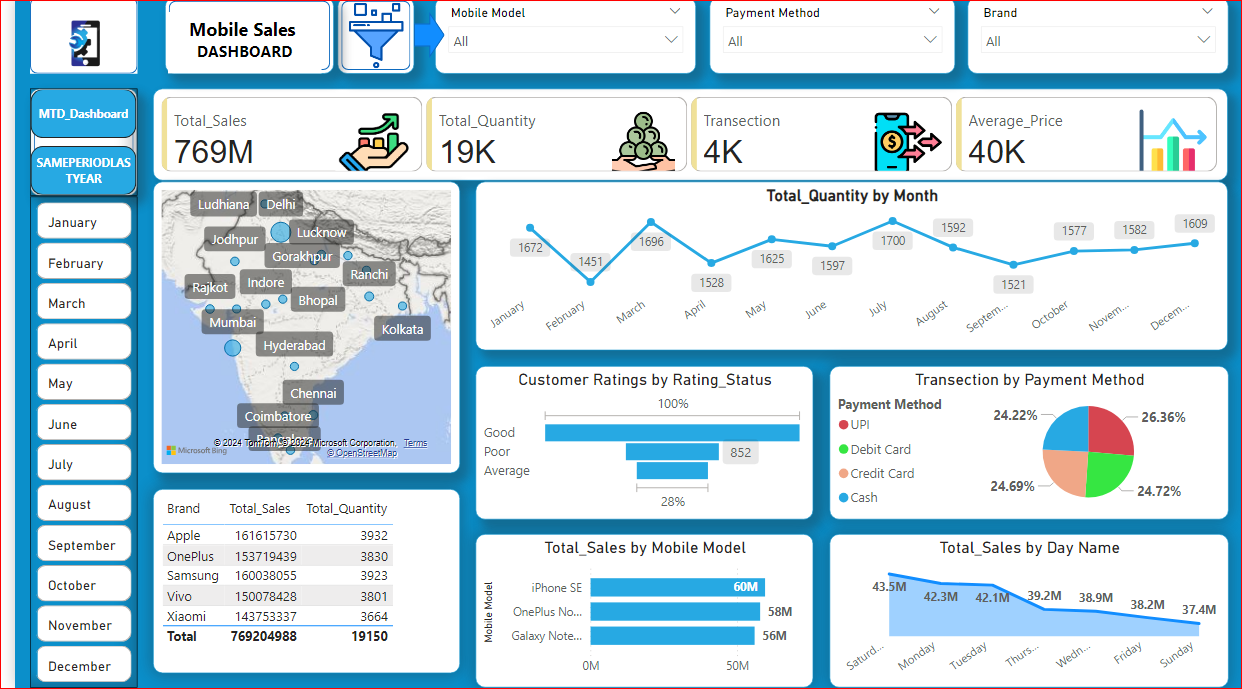

What the dashboard file says about the page in this screenshot:
{"tool":"powerbi","page":{"name":"Dashboard","canvas":[1280,720],"ordinal":0},"visuals":[{"type":"shape","box":[16,0,112,80],"z":0},{"type":"image","box":[0,0,144,96],"z":1000},{"type":"shape","box":[16,96,112,112],"z":2000},{"type":"advancedSlicerVisual","fields":{"Values":["Custom_Calender.Date.Variation.Date Hierarchy.Month"]},"box":[16,208,112,512],"z":3000},{"type":"cardVisual","fields":{"Data":["Sales_Data.Total_Sales","Sales_Data.Total_Quantity","Sales_Data.Transection","Sales_Data.Average_Price"]},"box":[144,96,1120,96],"z":4000},{"type":"slicer","fields":{"Values":["Sales_Data.Mobile Model"]},"box":[438.4,0,272,80],"z":5000},{"type":"slicer","fields":{"Values":["Sales_Data.Payment Method"]},"box":[723.2,0,256,80],"z":6000},{"type":"slicer","fields":{"Values":["Sales_Data.Brand"]},"box":[992,0,272,80],"z":7000},{"type":"shape","box":[336,0,80,80],"z":8000},{"type":"image","box":[336,0,80,80],"z":9000},{"type":"shape","box":[416,16,32,48],"z":10000},{"type":"shape","box":[156.8,0,176,80],"z":11000},{"type":"textbox","box":[160,16,160,64],"z":12000},{"type":"map","fields":{"Category":["Sales_Data.City"],"Size":["Sales_Data.Total_Sales"]},"box":[144,192,320,304],"z":13000},{"type":"lineChart","fields":{"Y":["Sales_Data.Total_Quantity"],"Category":["Custom_Calender.Date.Variation.Date Hierarchy.Month"]},"box":[480,192,784,176],"z":14000},{"type":"funnel","title":"Customer Ratings by Rating_Status","fields":{"Y":["CountNonNull(Sales_Data.Customer Ratings)"],"Category":["Sales_Data.Rating_Status"]},"box":[480,384,352,160],"z":15000},{"type":"pieChart","fields":{"Category":["Sales_Data.Payment Method"],"Y":["Sales_Data.Transection"]},"box":[848,384,416,160],"z":16000},{"type":"clusteredBarChart","fields":{"Category":["Sales_Data.Mobile Model"],"Y":["Sales_Data.Total_Sales"]},"box":[480,560,352,160],"z":17000},{"type":"areaChart","fields":{"Y":["Sales_Data.Total_Sales"],"Category":["Custom_Calender.Day Name"]},"box":[848,560,416,160],"z":18000},{"type":"tableEx","fields":{"Values":["Sales_Data.Brand","Sales_Data.Total_Sales","Sales_Data.Total_Quantity"]},"box":[144,512,320,192],"z":19000},{"type":"pageNavigator","box":[16,96,112,112],"z":19001}]}

Visuals, with their boxes in screenshot pixels (x1, y1, x2, y2), scaled from the page's 1280x720 canvas onto the 1242x689 screenshot:
shape: box=[16, 0, 124, 77]
image: box=[0, 0, 140, 92]
shape: box=[16, 92, 124, 199]
advancedSlicerVisual - Custom_Calender.Date.Variation.Date Hierarchy.Month: box=[16, 199, 124, 688]
cardVisual - Sales_Data.Total_Sales x Sales_Data.Total_Quantity: box=[140, 92, 1226, 184]
slicer - Sales_Data.Mobile Model: box=[425, 0, 689, 77]
slicer - Sales_Data.Payment Method: box=[702, 0, 950, 77]
slicer - Sales_Data.Brand: box=[963, 0, 1226, 77]
shape: box=[326, 0, 404, 77]
image: box=[326, 0, 404, 77]
shape: box=[404, 15, 435, 61]
shape: box=[152, 0, 323, 77]
textbox: box=[155, 15, 310, 77]
map - Sales_Data.City x Sales_Data.Total_Sales: box=[140, 184, 450, 475]
lineChart - Sales_Data.Total_Quantity x Custom_Calender.Date.Variation.Date Hierarchy.Month: box=[466, 184, 1226, 352]
"Customer Ratings by Rating_Status" funnel: box=[466, 367, 807, 521]
pieChart - Sales_Data.Payment Method x Sales_Data.Transection: box=[823, 367, 1226, 521]
clusteredBarChart - Sales_Data.Mobile Model x Sales_Data.Total_Sales: box=[466, 536, 807, 688]
areaChart - Sales_Data.Total_Sales x Custom_Calender.Day Name: box=[823, 536, 1226, 688]
tableEx - Sales_Data.Brand x Sales_Data.Total_Sales: box=[140, 490, 450, 674]
pageNavigator: box=[16, 92, 124, 199]
